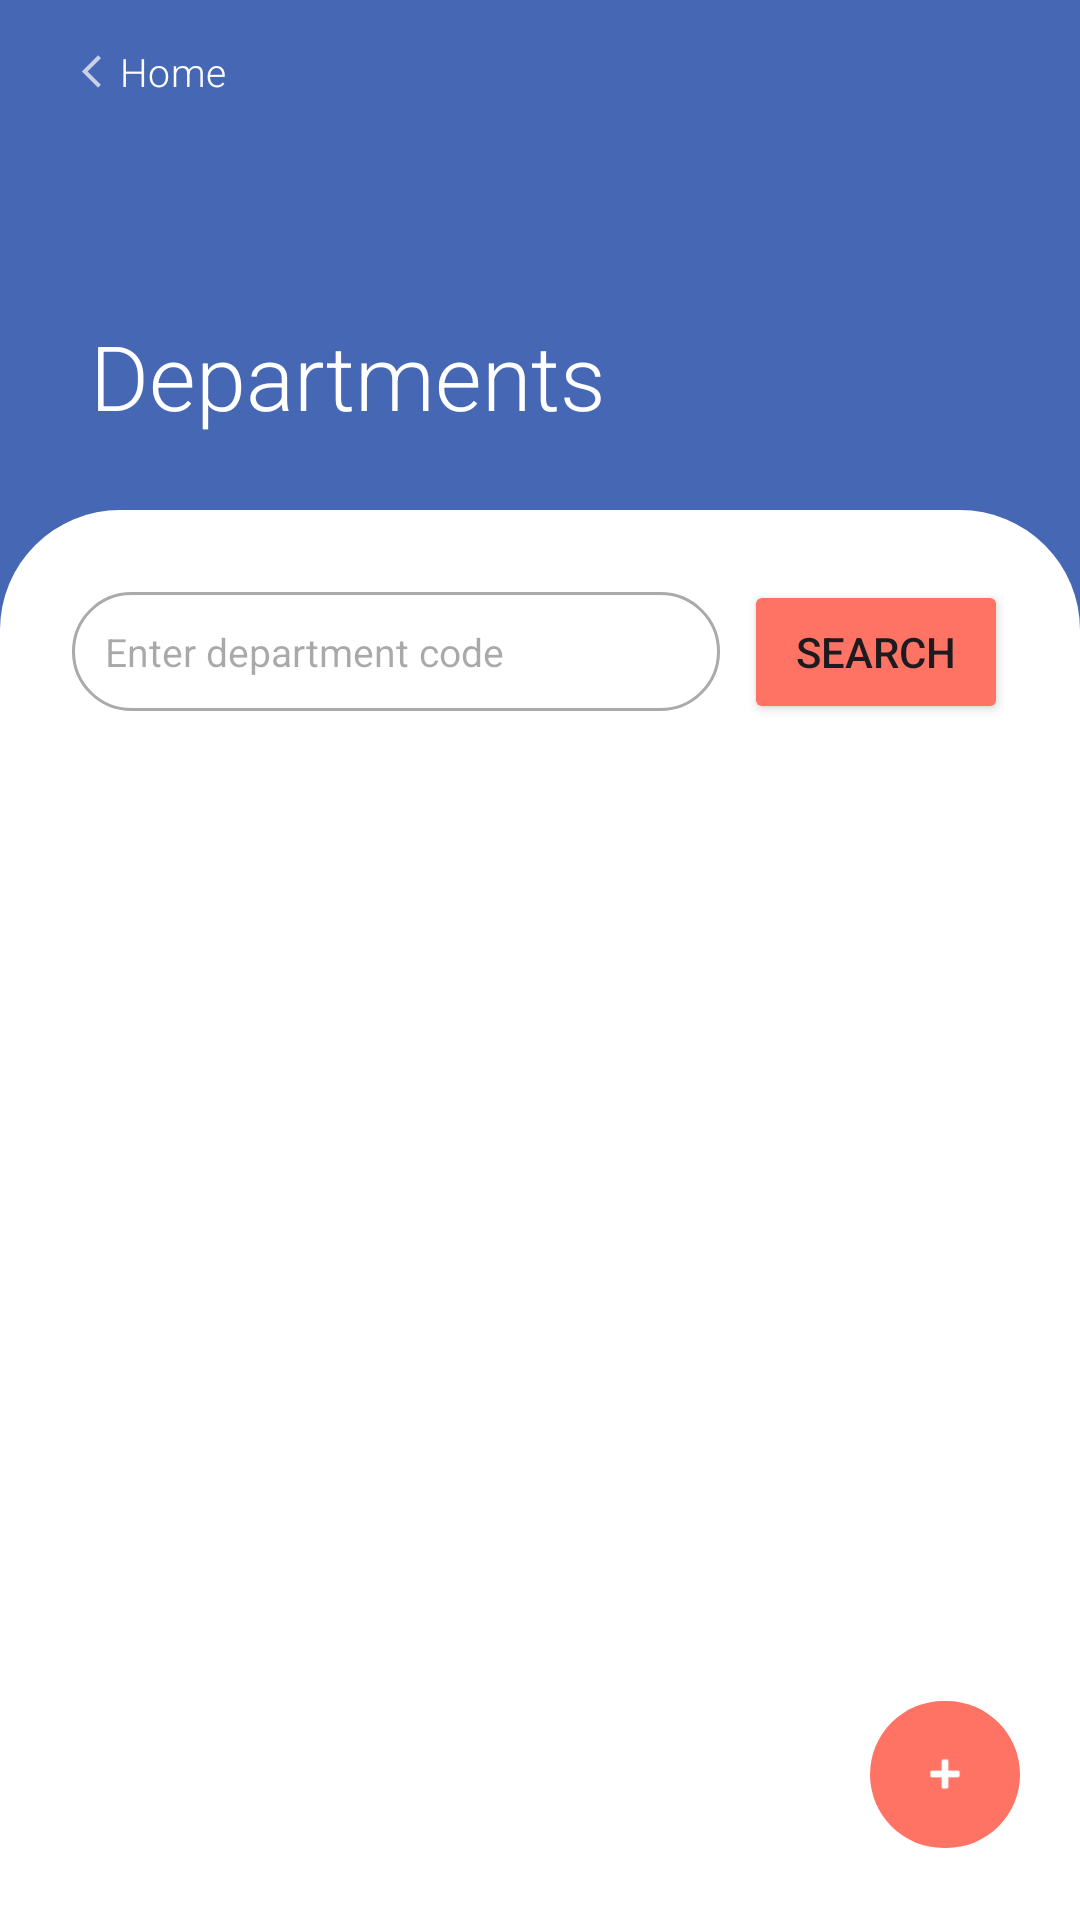

Locate icon controls on the screen. Image size 1080 × 1920, boxes as {"x1": x1, "y1": y1, "x2": x2, "y2": y2}.
add: {"x1": 870, "y1": 1701, "x2": 1020, "y2": 1848}
